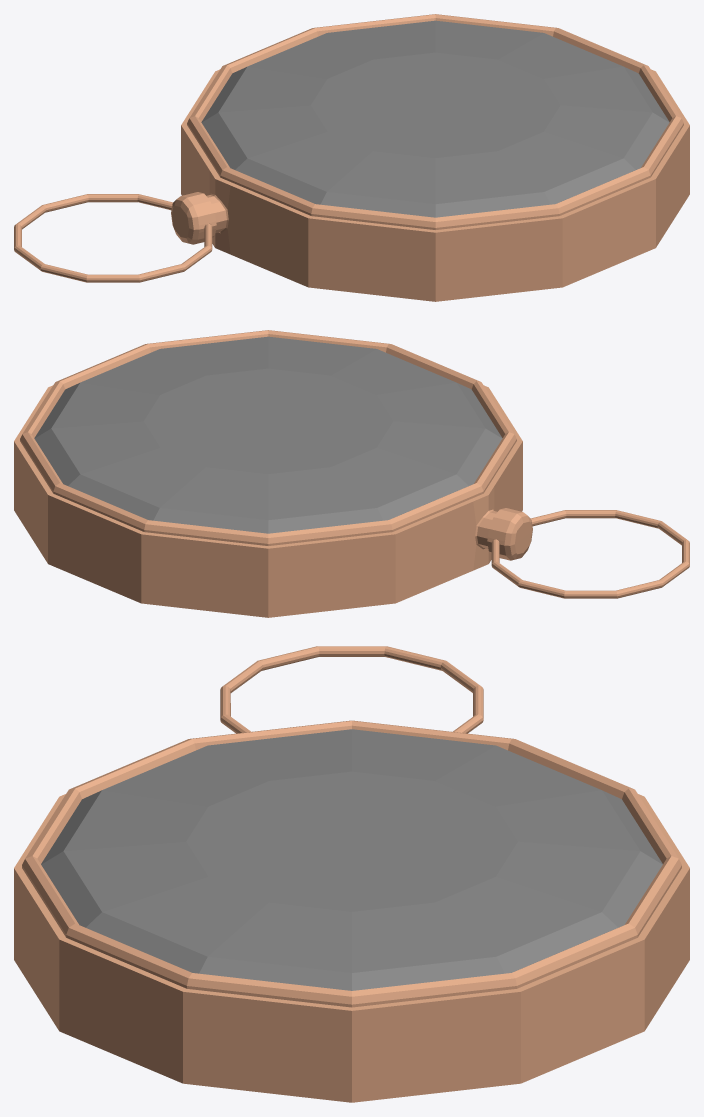
Rendered from Compass.fbx.
3 renders of one model, top to bottom at view 1: azimuth 30°, elevation 25°; view 2: azimuth 150°, elevation 25°; view 3: azimuth 270°, elevation 25°, orthographic. The views are drawn at different scales.
Parts seen in each view (by area): view 1: CompassBody, CompassRing; view 2: CompassBody, CompassRing; view 3: CompassBody, CompassRing.
Boxes of the visible parts, x1,y1,x2,y2 form: CompassBody: [171, 14, 689, 301]; CompassRing: [14, 194, 212, 282]; CompassBody: [14, 330, 532, 617]; CompassRing: [491, 510, 689, 598]; CompassBody: [14, 720, 689, 1102]; CompassRing: [220, 646, 483, 733].
Bounding box in the file's own units: 186 × 25.17 × 130.
